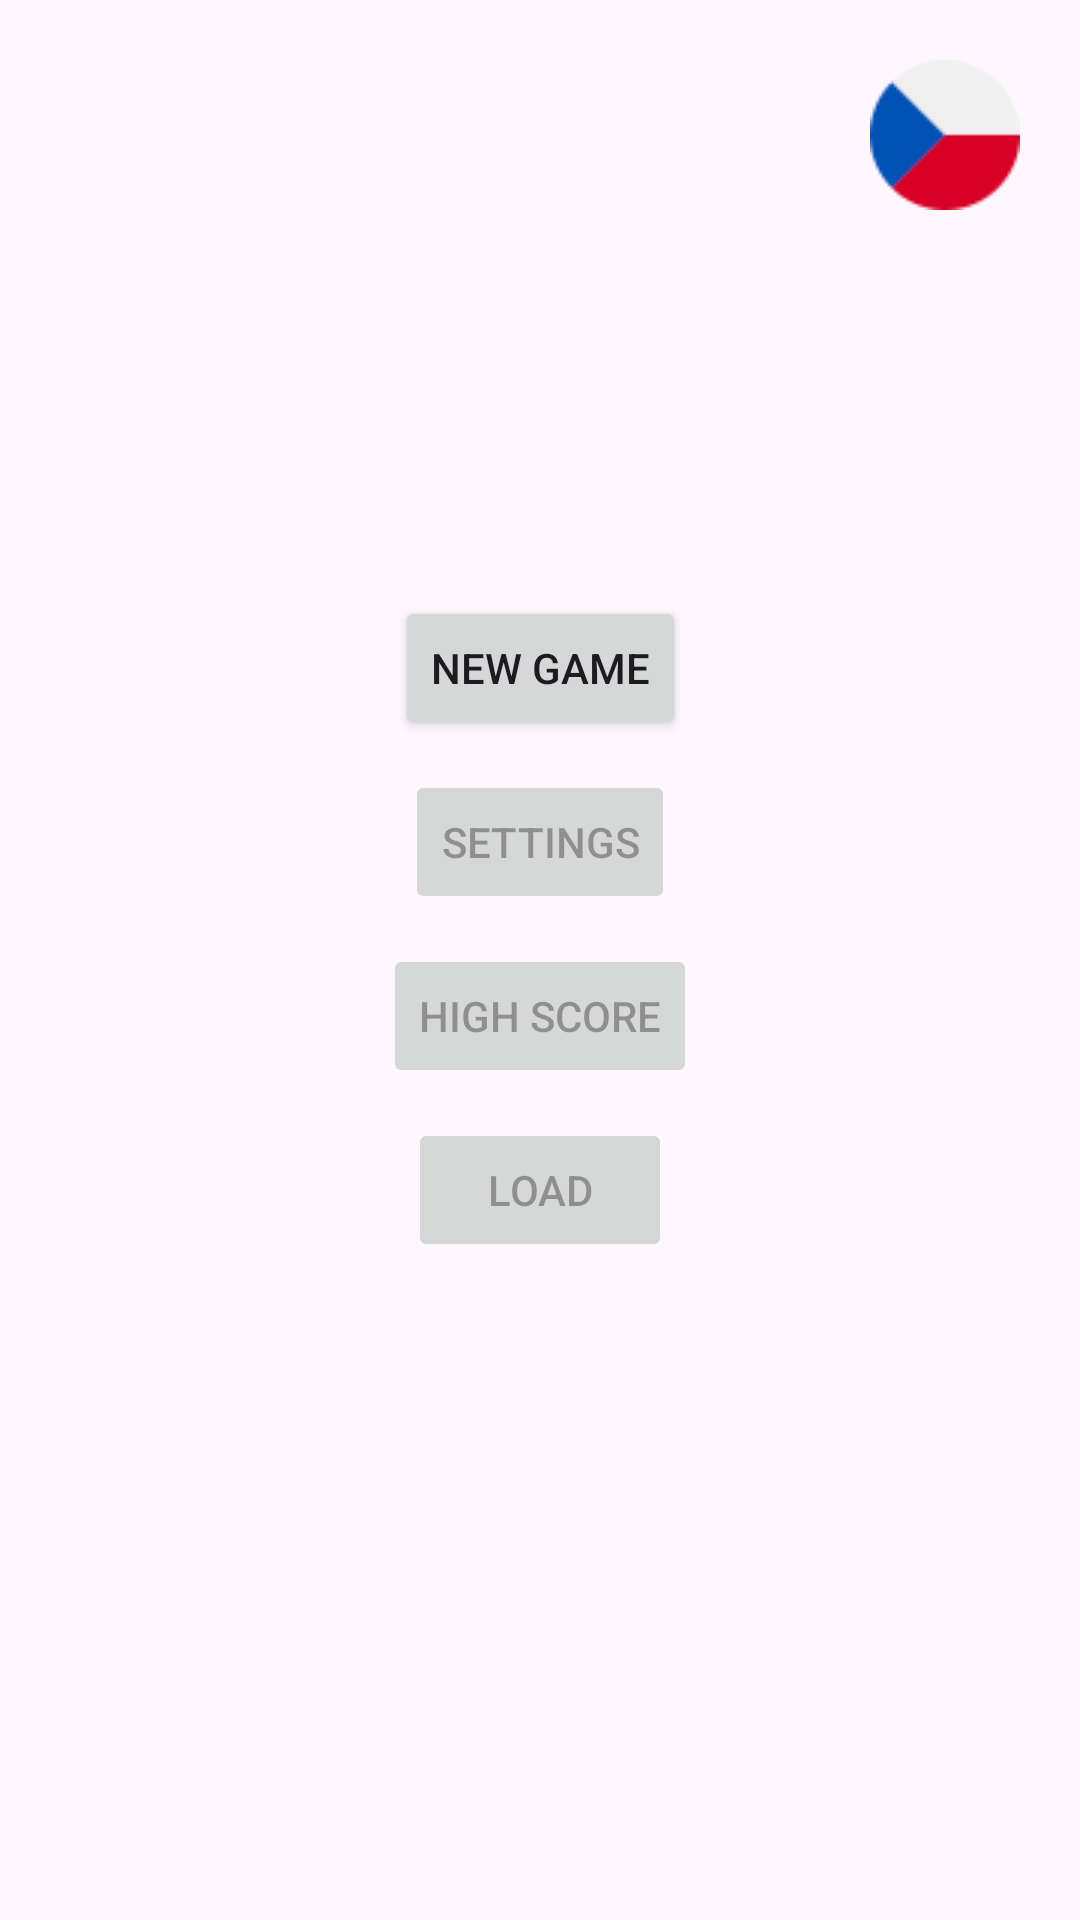

Named icons in this screenshot (1080px x 1920px) and their bounding boxes, (x1, y1, x2, y2):
cze: (870, 81, 1020, 210)
